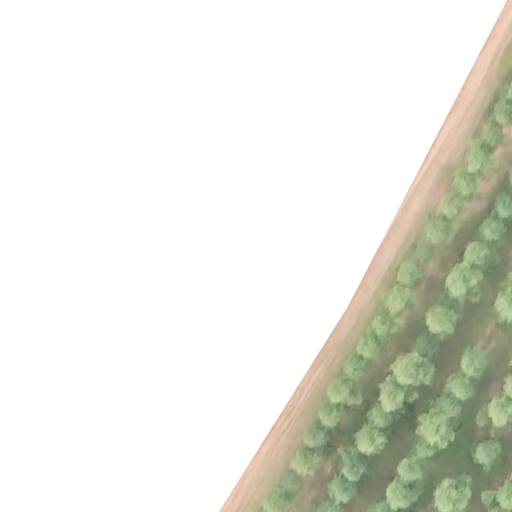eucalipto: (441, 263, 485, 307), (415, 413, 456, 450), (391, 355, 439, 384), (323, 378, 366, 410), (433, 476, 469, 512), (384, 478, 423, 510), (423, 305, 458, 340), (381, 285, 414, 321), (378, 380, 414, 411), (483, 474, 512, 512), (355, 427, 390, 457), (471, 119, 505, 149), (473, 439, 504, 470), (460, 349, 491, 379), (462, 242, 494, 271), (484, 395, 512, 428), (424, 216, 453, 246), (464, 148, 494, 177), (432, 395, 465, 421), (291, 451, 322, 478), (326, 477, 357, 503), (257, 490, 293, 512), (355, 335, 383, 363), (395, 459, 425, 485), (413, 333, 444, 358), (495, 284, 512, 329), (447, 375, 475, 402), (305, 426, 333, 451), (394, 262, 423, 286), (478, 219, 507, 243), (492, 188, 512, 222), (439, 193, 465, 219), (451, 171, 477, 197), (368, 408, 397, 431), (343, 357, 369, 382), (318, 404, 342, 431), (369, 318, 398, 340), (274, 470, 300, 492), (314, 499, 344, 512), (415, 243, 436, 260)
